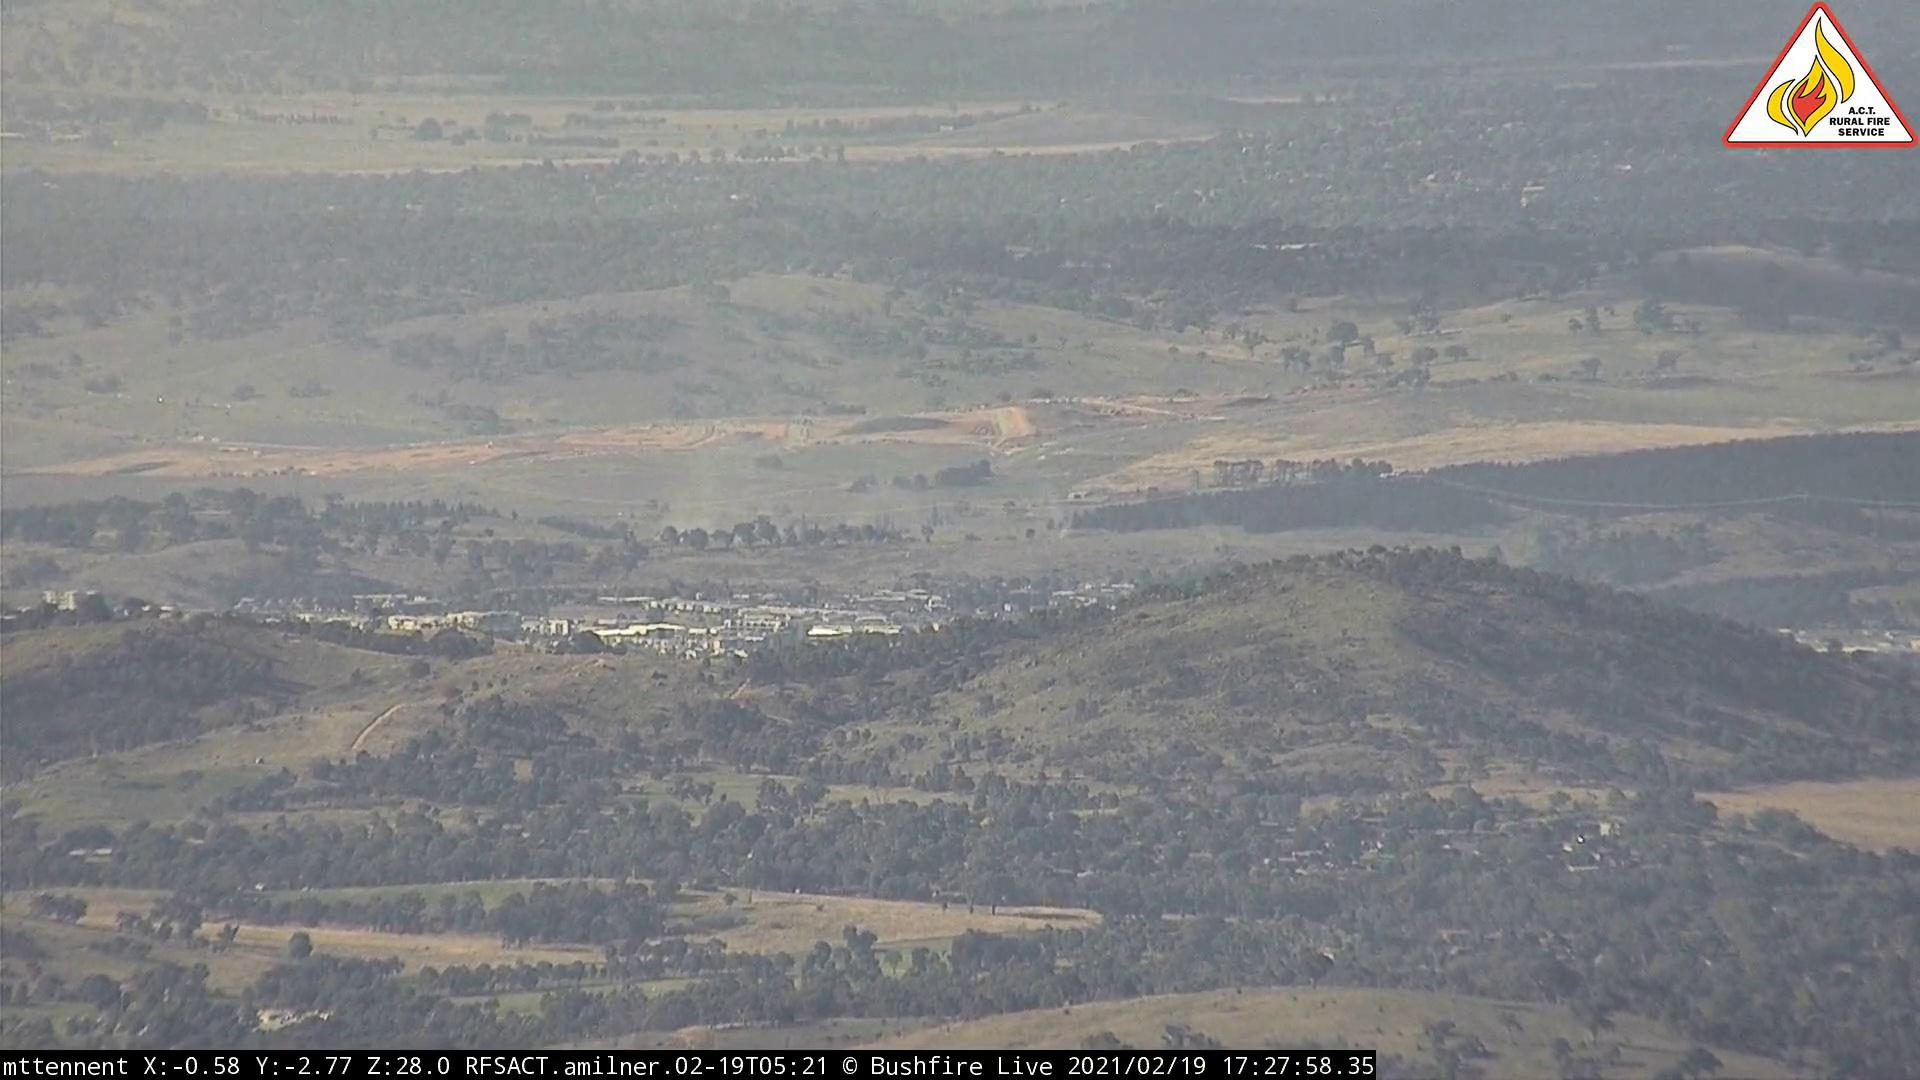Smoke: (657, 431, 782, 534)
